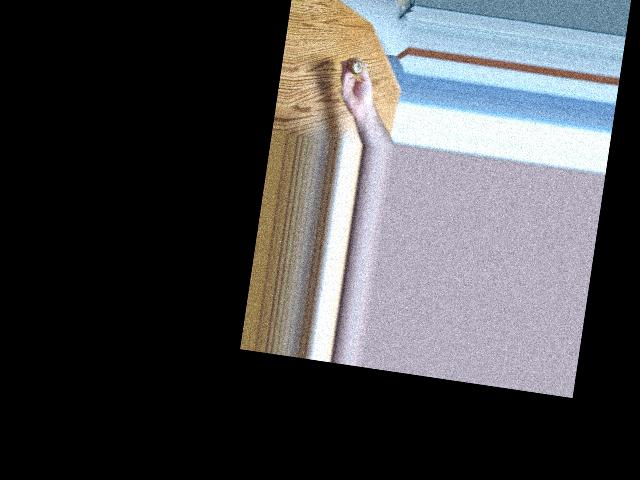sweet_potato: (349, 54, 368, 75)
